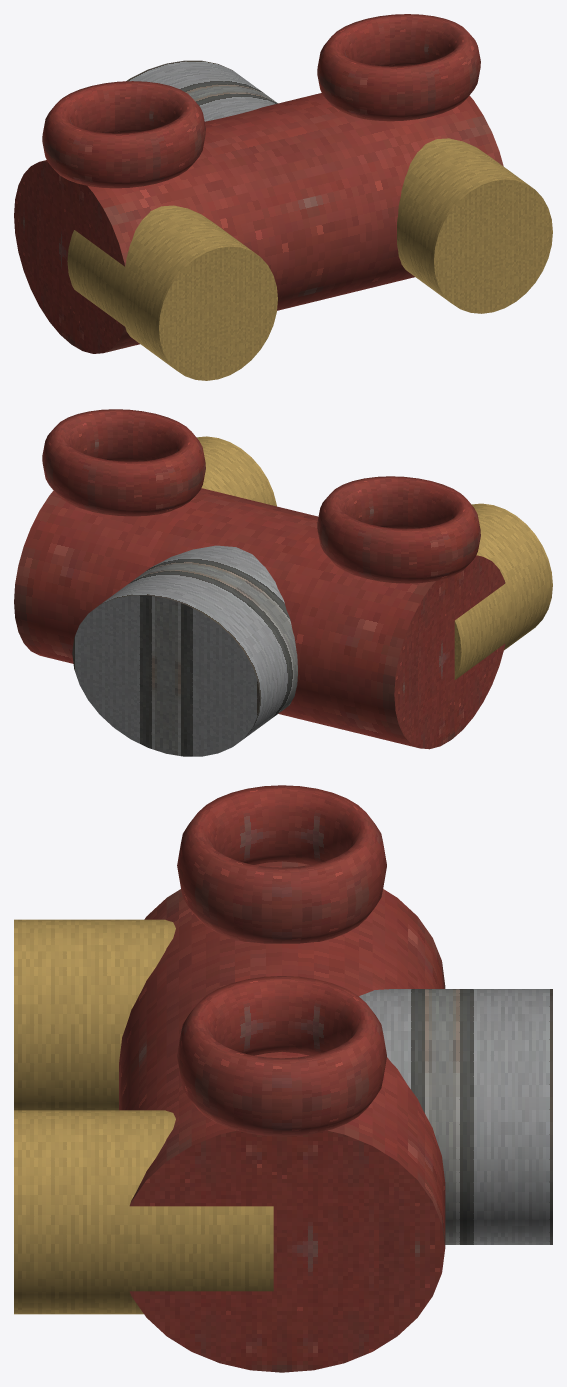
The model's file is manifold.glb.
The picture shows the model from 3 angles, top to bottom: view 1: azimuth 30°, elevation 25°; view 2: azimuth 150°, elevation 25°; view 3: azimuth 270°, elevation 25°; orthographic projection. The views are drawn at different scales.
Visible parts, largest first — view 1: body, outlet (×2), wheel (×2), inlet; view 2: body, inlet, wheel (×2), outlet (×2); view 3: body, outlet (×2), wheel (×2), inlet.
Part boxes in pixels (x1=…): body: x1=14, y1=93, x2=503, y2=353; outlet (×2): x1=67, y1=138, x2=552, y2=380; wheel (×2): x1=42, y1=14, x2=480, y2=188; inlet: x1=126, y1=60, x2=277, y2=121; body: x1=14, y1=488, x2=505, y2=749; inlet: x1=72, y1=545, x2=297, y2=756; wheel (×2): x1=42, y1=409, x2=480, y2=583; outlet (×2): x1=196, y1=436, x2=552, y2=679; body: x1=119, y1=861, x2=445, y2=1372; outlet (×2): x1=14, y1=919, x2=273, y2=1314; wheel (×2): x1=177, y1=785, x2=386, y2=1136; inlet: x1=359, y1=989, x2=552, y2=1244.
Size of the model in its own units: 0.3128 by 0.1577 by 0.2437.
3 materials, 3 textured.
